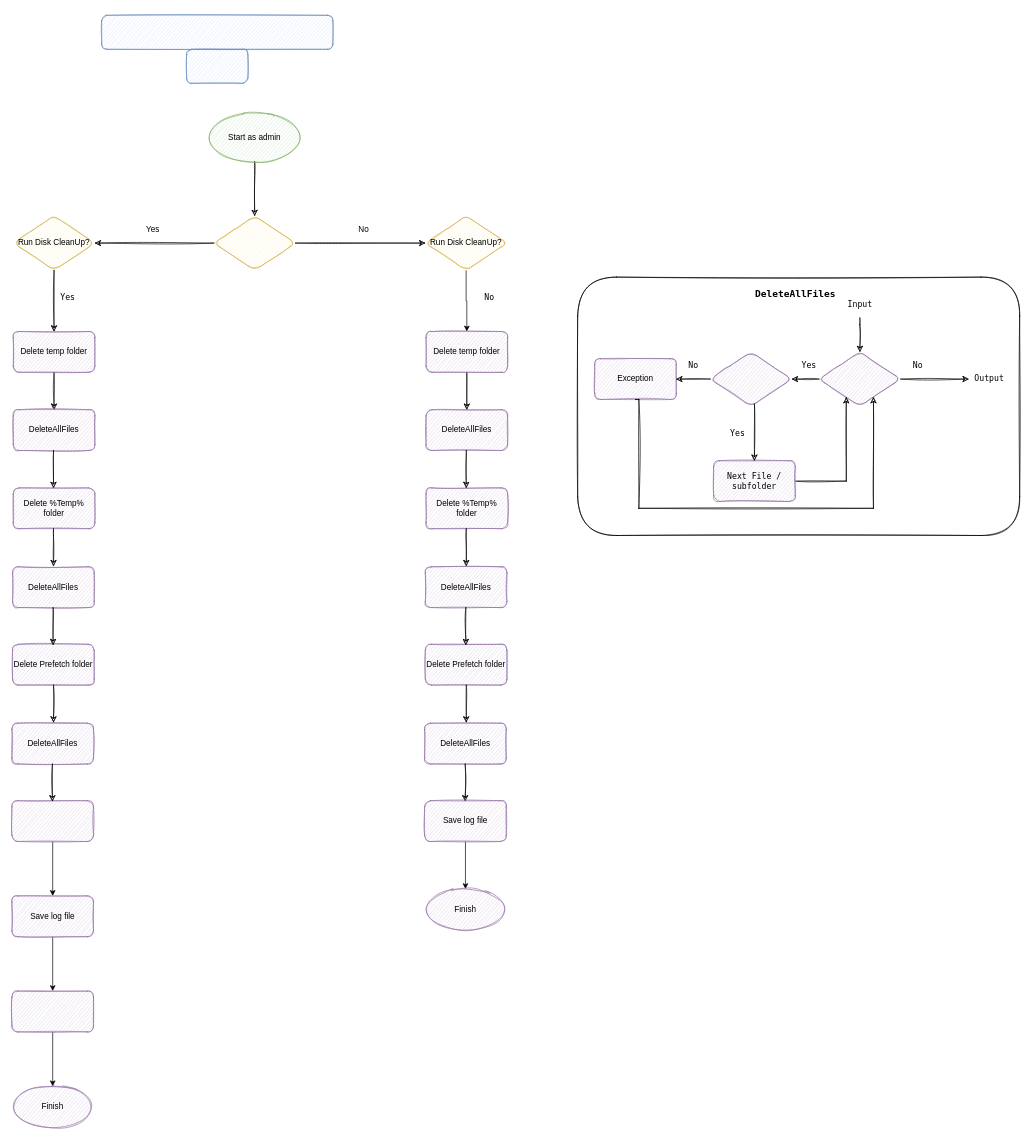
This 1032x1139 diagram has some shape labels left out. The shapes that lost their labels are listed below. From the top down, each one's centre as x and y in pixels, then its label:
At point 217,32: "CleanPc_Solution - MVP".
At point 217,66: "Diagram".
At point 254,242: "Restart?".
At point 751,378: "Delete sucessful?".
At point 859,378: "Folder != null".
At point 52,821: "Start Disk Cleanup".
At point 52,1011: "Restart pc".
